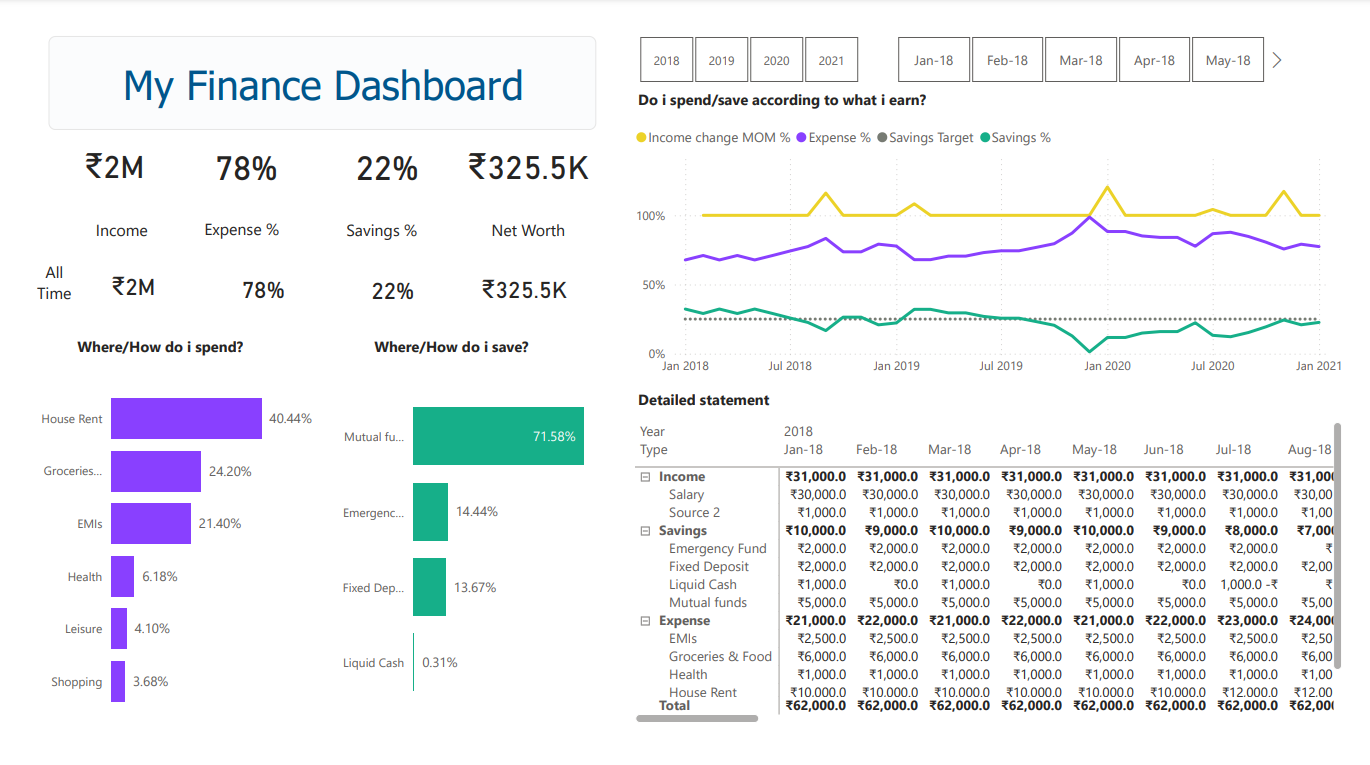

Layout of this report page (visuals, bound fields, positions):
{"tool":"powerbi","page":{"name":"fin dashboard","canvas":[1325,720],"ordinal":0},"visuals":[{"type":"card","fields":{"Values":["key measure.Total Income"]},"box":[24.4,94.1,132,95.3],"z":0},{"type":"card","fields":{"Values":["key measure.Expense %"]},"box":[156.1,94.4,132,95.3],"z":1000},{"type":"card","fields":{"Values":["key measure.Savings %"]},"box":[297.1,94.4,132,95.3],"z":2000},{"type":"card","fields":{"Values":["key measure.Total Savings"]},"box":[438.1,94.4,132,95.3],"z":3000},{"type":"textbox","box":[47.7,190.7,99,37.9],"z":4000},{"type":"textbox","box":[169.2,189.7,96.6,35.4],"z":5000},{"type":"textbox","box":[309.8,190.5,95.3,35.4],"z":6000},{"type":"textbox","box":[449.1,191.3,110,35.4],"z":7000},{"type":"slicer","fields":{"Values":["FinData.Year"]},"box":[590.4,7.3,267.7,58.7],"z":8000},{"type":"slicer","fields":{"Values":["FinData.Date"]},"box":[848.4,7.3,415.6,58.7],"z":9000},{"type":"card","fields":{"Values":["key measure.Total Savings"]},"box":[438.1,225.2,123.5,81.9],"z":10000},{"type":"card","fields":{"Values":["key measure.Savings %"]},"box":[307.7,225.2,121,84.3],"z":11000},{"type":"card","fields":{"Values":["key measure.Expense %"]},"box":[179.8,222.7,118.6,86.8],"z":12000},{"type":"card","fields":{"Values":["key measure.Total Income"]},"box":[48.2,220.3,122.2,86.8],"z":13000},{"type":"textbox","box":[0,233.5,59.9,66],"z":14000},{"type":"card","fields":{"Values":["key measure.Title"]},"box":[24.2,13.4,548.1,94],"z":15000},{"type":"clusteredBarChart","fields":{"Category":["FinData.Component"],"Y":["key measure.Total expense"]},"box":[0,341.2,297.1,364.4],"z":16000},{"type":"textbox","box":[47.7,308,187,33],"z":17000},{"type":"barChart","fields":{"Category":["FinData.Component"],"Y":["Divide(key measure.Total Savings, ScopedEval(key measure.Total Savings, []))"]},"box":[298.4,341.2,310.6,364.4],"z":18000},{"type":"textbox","box":[344.7,308,187,33],"z":19000},{"type":"lineChart","fields":{"Category":["FinData.Date"],"Y":["key measure.Income change MOM %","key measure.Expense %","key measure.Savings Target","key measure.Savings %"]},"box":[606.3,94.1,717.6,266.5],"z":20000},{"type":"textbox","box":[608.8,61.1,479.2,33],"z":21000},{"type":"pivotTable","fields":{"Values":["key measure.value"],"Columns":["FinData.Year","FinData.Date"],"Rows":["Type.Type","FinData.Component"]},"box":[606.3,393.6,716.3,311.7],"z":22000},{"type":"textbox","box":[608.8,360.6,479.2,33],"z":23000}]}

Visuals, with their boxes in screenshot pixels (x1, y1, x2, y2), scaled from the page's 1325x720 canvas onto the 1370x765 screenshot:
card - key measure.Total Income: bbox=(25, 100, 162, 201)
card - key measure.Expense %: bbox=(161, 100, 298, 202)
card - key measure.Savings %: bbox=(307, 100, 444, 202)
card - key measure.Total Savings: bbox=(453, 100, 589, 202)
textbox: bbox=(49, 203, 152, 243)
textbox: bbox=(175, 202, 275, 239)
textbox: bbox=(320, 202, 419, 240)
textbox: bbox=(464, 203, 578, 241)
slicer - FinData.Year: bbox=(610, 8, 887, 70)
slicer - FinData.Date: bbox=(877, 8, 1307, 70)
card - key measure.Total Savings: bbox=(453, 239, 581, 326)
card - key measure.Savings %: bbox=(318, 239, 443, 329)
card - key measure.Expense %: bbox=(186, 237, 309, 329)
card - key measure.Total Income: bbox=(50, 234, 176, 326)
textbox: bbox=(0, 248, 62, 318)
card - key measure.Title: bbox=(25, 14, 592, 114)
clusteredBarChart - FinData.Component x key measure.Total expense: bbox=(0, 363, 307, 750)
textbox: bbox=(49, 327, 243, 362)
barChart - FinData.Component x Divide(key measure.Total Savings, ScopedEval(key measure.Total Savings, [])): bbox=(309, 363, 630, 750)
textbox: bbox=(356, 327, 550, 362)
lineChart - FinData.Date x key measure.Income change MOM %: bbox=(627, 100, 1369, 383)
textbox: bbox=(629, 65, 1125, 100)
pivotTable - key measure.value x FinData.Year: bbox=(627, 418, 1368, 749)
textbox: bbox=(629, 383, 1125, 418)
